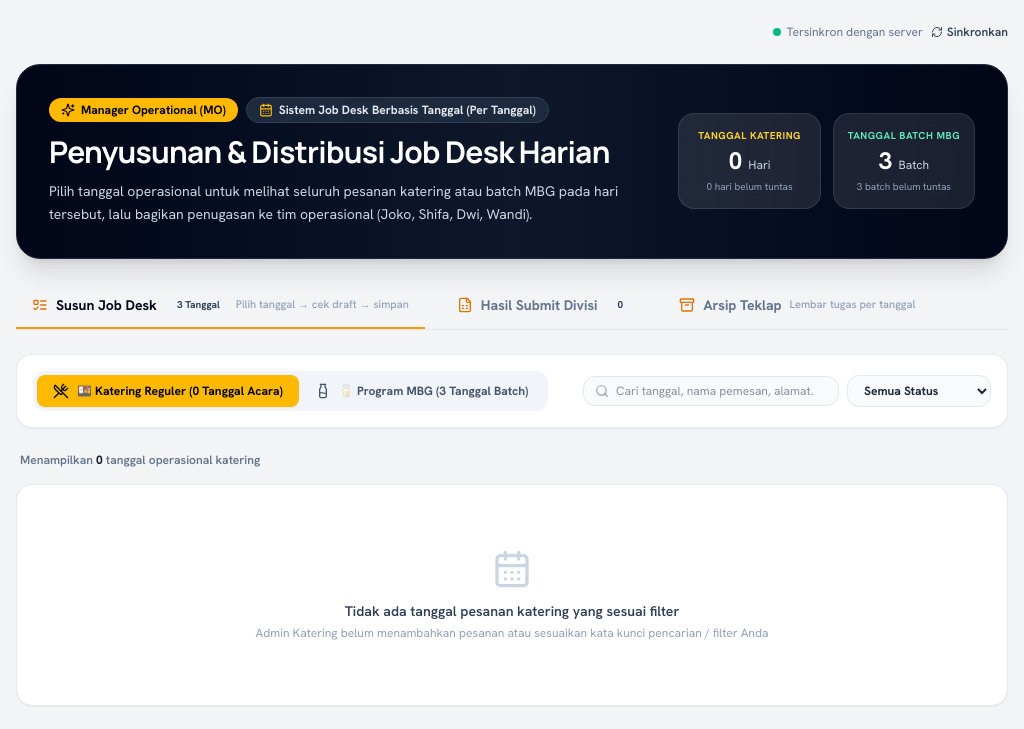
MO job desk: PM rows entered by Admin MBG › says "not entered" only once the server confirms the batch has no rows
The image size is (1024, 729).
Click the button "🥛 Program MBG (3 Tanggal Batch)".
click(422, 391)  # box [299, 375, 544, 407]
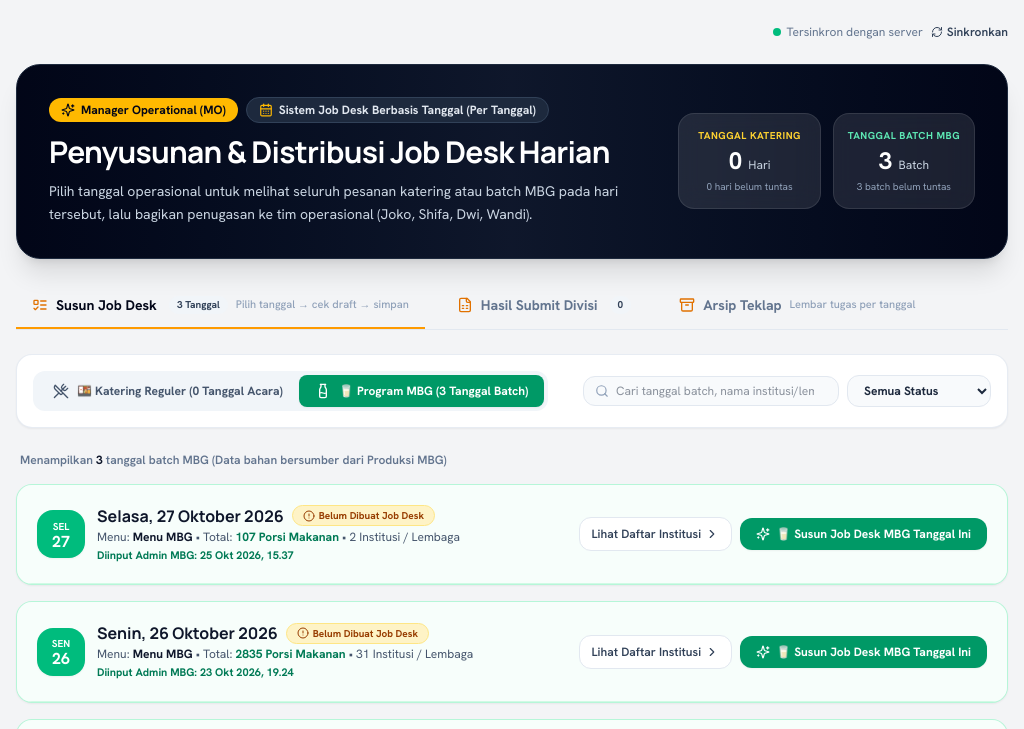
Click the button named "Lihat Institusi".
click(655, 534)  # box [579, 517, 732, 551]
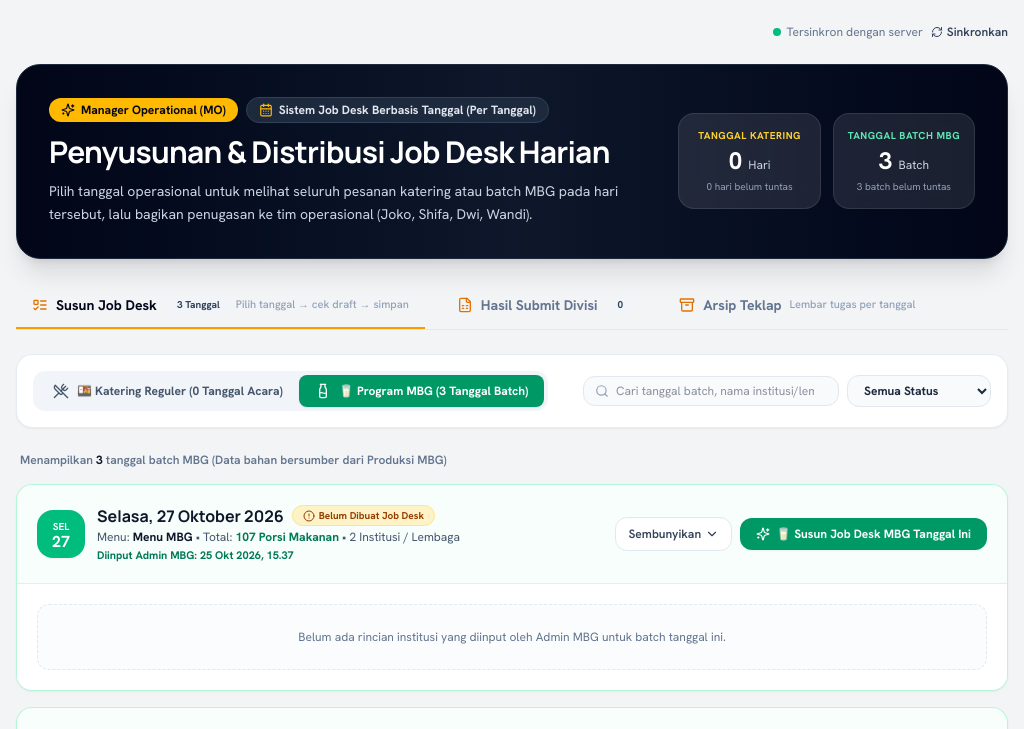
Expected: the text "Belum ada rincian institusi yang diinput oleh Admin MBG untuk batch tanggal ini." is shown, [37, 604, 987, 670]
